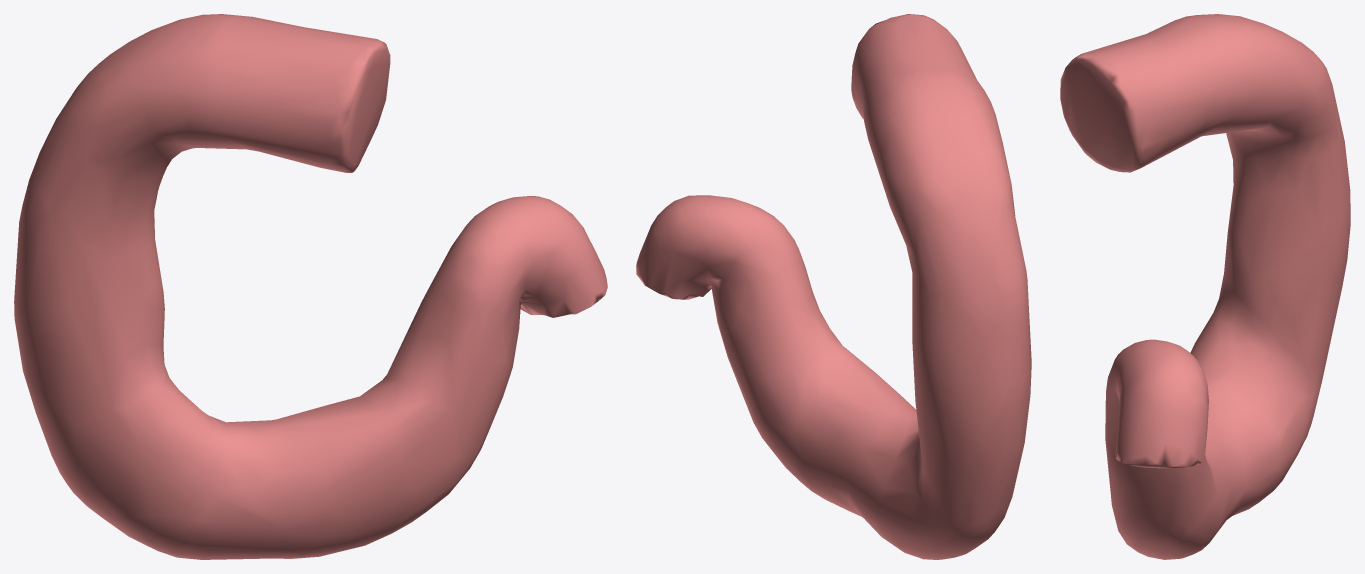
The model's file is Duodenum.glb.
3 views of the same model, side by side, from view 1: azimuth 30°, elevation 25°; view 2: azimuth 150°, elevation 25°; view 3: azimuth 270°, elevation 25° (orthographic). The views are drawn at different scales.
Visible parts, largest first — view 1: Duodenum_grp1.820; view 2: Duodenum_grp1.820; view 3: Duodenum_grp1.820.
Part boxes in pixels (<box>): Duodenum_grp1.820: <box>14,14,607,559</box>; Duodenum_grp1.820: <box>636,14,1031,559</box>; Duodenum_grp1.820: <box>1060,14,1350,559</box>.
Size of the model in its own units: 0.098 by 0.0985 by 0.053.
